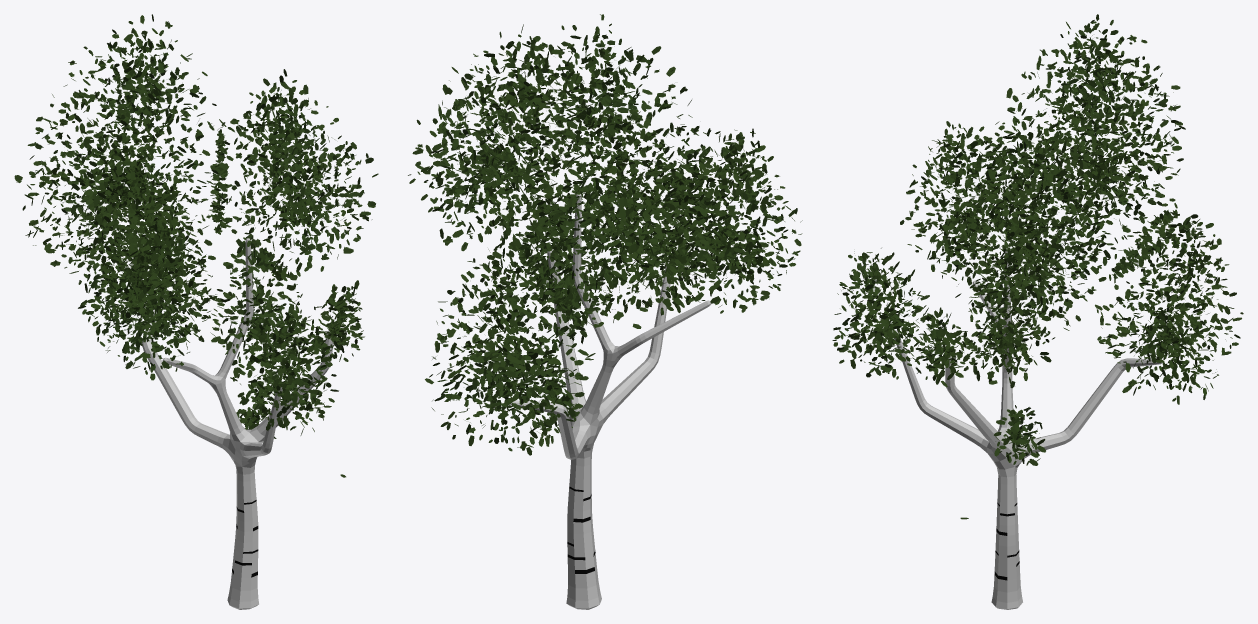
File: tree3.fbx
3 views of the same model, side by side, from view 1: azimuth 30°, elevation 25°; view 2: azimuth 150°, elevation 25°; view 3: azimuth 270°, elevation 25° (orthographic). The views are drawn at different scales.
Parts seen in each view (by area): view 1: Icosphere.002; view 2: Icosphere.002; view 3: Icosphere.002.
Part boxes in pixels (x1,y1,x2,y2): Icosphere.002: [14, 14, 378, 609]; Icosphere.002: [408, 14, 802, 609]; Icosphere.002: [832, 14, 1243, 609].
Size of the model in its own units: 808 by 1440 by 963.
